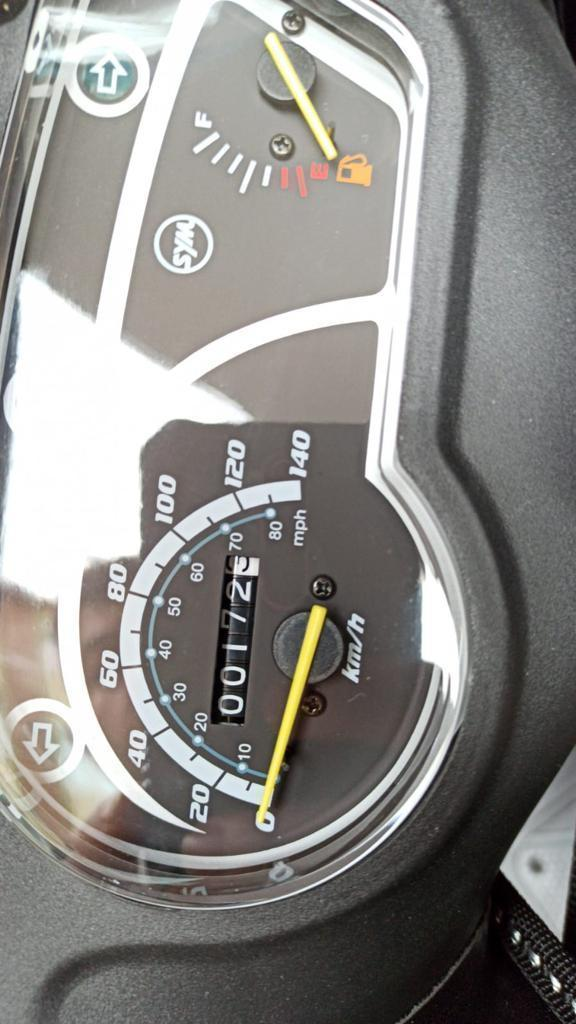0: (215, 692, 248, 716), (218, 663, 250, 687)
1: (220, 639, 250, 653)
2: (223, 579, 253, 600)
3: (221, 553, 250, 573)
7: (218, 608, 249, 629)
odometer: (207, 552, 261, 726)
